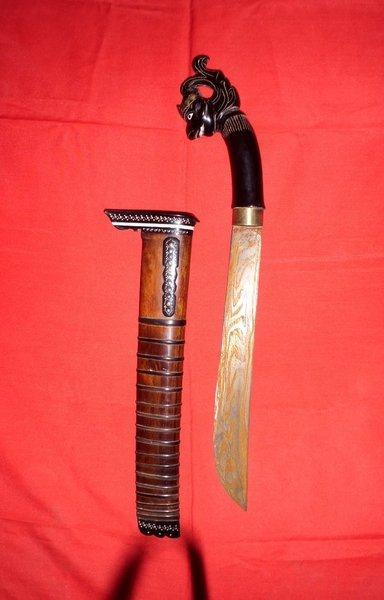facao: (180, 56, 263, 508)
